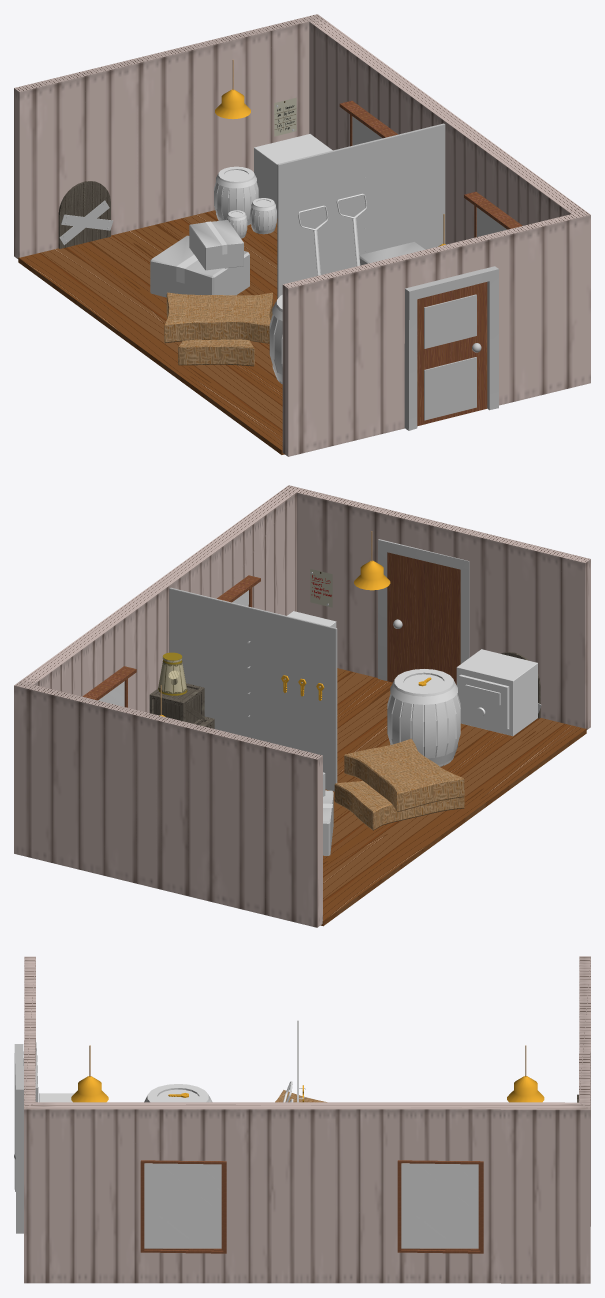
The model's file is LEVEL 3.FBX.
The picture shows the model from 3 angles, top to bottom: view 1: azimuth 30°, elevation 25°; view 2: azimuth 150°, elevation 25°; view 3: azimuth 270°, elevation 25°; orthographic projection. The views are drawn at different scales.
Parts seen in each view (by area): view 1: Line023, Lantai, PARTISI TRIPLEKS, Line037, Line003, Box007, Box105, Box008, Box001, Box009, KARDUS 2, PAPAN KECIL (+9 smaller); view 2: Line023, PARTISI TRIPLEKS, Lantai, Box127, KOTAK PUZZLE 3, Line037, Cylinder103, Line025, Line036, Box120, Plane015, Cone003 (+4 smaller); view 3: Line023, Box186, Box188, Line003, CasementWindow003, CasementWindow004, Cylinder103, Cylinder095, Cylinder002.
Boxes of the visible parts, left/top/right/bottom form: Line023: left=14, top=14, right=590, bottom=456; Lantai: left=18, top=210, right=284, bottom=454; PARTISI TRIPLEKS: left=277, top=123, right=445, bottom=298; Line037: left=164, top=292, right=272, bottom=343; Line003: left=404, top=266, right=498, bottom=430; Box007: left=417, top=282, right=487, bottom=426; Box105: left=150, top=235, right=249, bottom=297; Box008: left=424, top=357, right=476, bottom=420; Box001: left=254, top=134, right=332, bottom=218; Box009: left=424, top=294, right=476, bottom=348; KARDUS 2: left=189, top=220, right=243, bottom=270; PAPAN KECIL: left=58, top=181, right=110, bottom=248; Line023: left=14, top=485, right=590, bottom=927; PARTISI TRIPLEKS: left=169, top=587, right=337, bottom=791; Lantai: left=320, top=668, right=586, bottom=926; Box127: left=387, top=552, right=460, bottom=684; KOTAK PUZZLE 3: left=456, top=649, right=537, bottom=736; Line037: left=344, top=738, right=464, bottom=811; Cylinder103: left=387, top=669, right=460, bottom=766; Line025: left=378, top=539, right=469, bottom=680; Line036: left=334, top=781, right=464, bottom=830; Box120: left=149, top=683, right=204, bottom=724; Plane015: left=310, top=569, right=332, bottom=607; Cone003: left=158, top=660, right=187, bottom=695; Line023: left=24, top=956, right=590, bottom=1283; Box186: left=144, top=1163, right=221, bottom=1248; Box188: left=401, top=1163, right=478, bottom=1248; Line003: left=14, top=1044, right=23, bottom=1233; CasementWindow003: left=140, top=1160, right=226, bottom=1253; CasementWindow004: left=397, top=1160, right=483, bottom=1253; Cylinder103: left=147, top=1084, right=209, bottom=1102; Cylinder095: left=71, top=1076, right=108, bottom=1102; Cylinder002: left=507, top=1076, right=544, bottom=1102.
Bounding box in the file's own units: 1381 × 746 × 2147.
